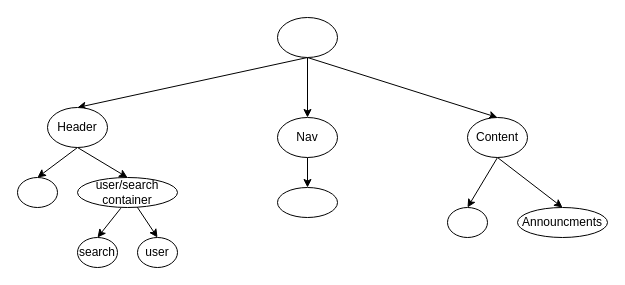
The diagram is 625 pixels wide and 285 high, and some of its shapes have lost their labels. Each missing label, with the centre of its shape:
"App" belongs at (307,37).
"filters" belongs at (467,222).
"logo" belongs at (37,192).
"Nav unit" belongs at (307,202).
